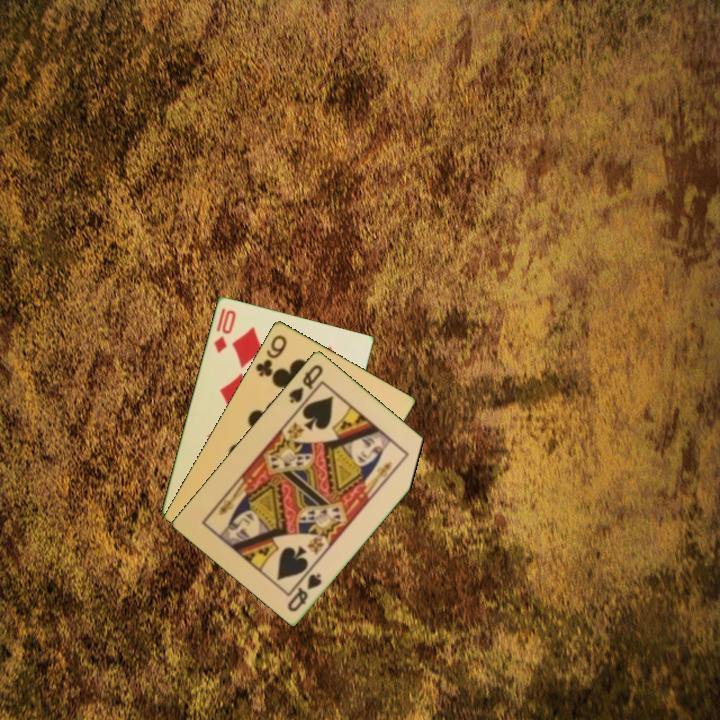10d: (210, 306, 239, 355)
9c: (252, 331, 290, 380)
Qs: (285, 360, 326, 406), (284, 569, 325, 615)
